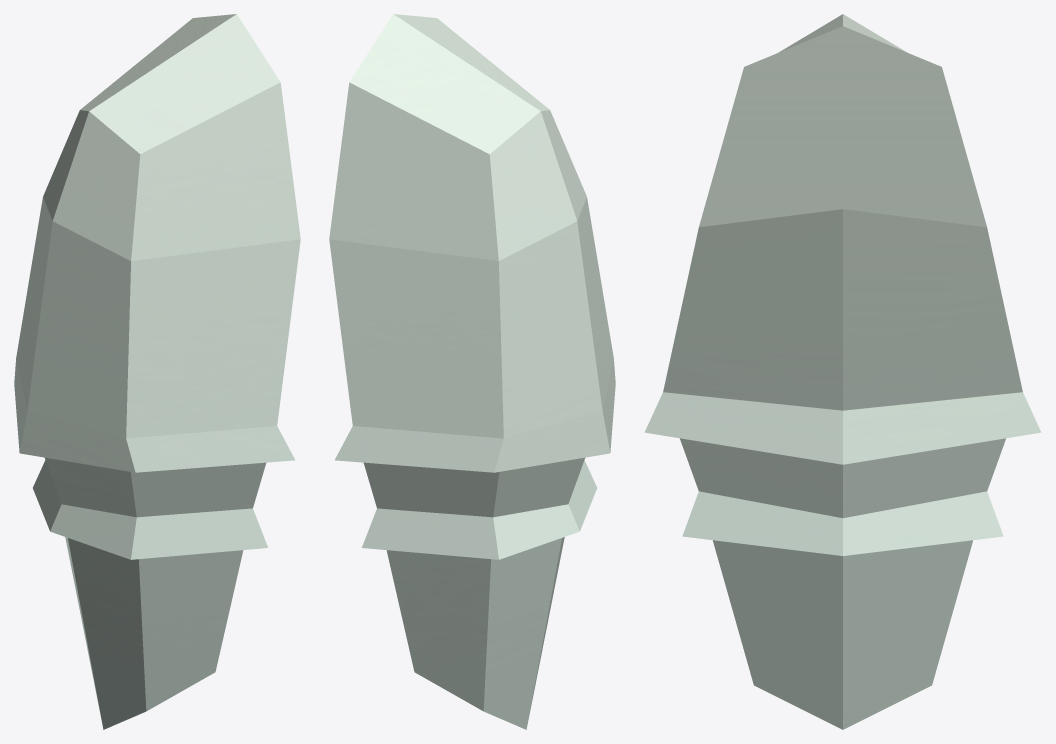
Rendered from SM_Yak_Tail.fbx.
3 renders of one model, left to right at view 1: azimuth 30°, elevation 25°; view 2: azimuth 150°, elevation 25°; view 3: azimuth 270°, elevation 25°, orthographic. The views are drawn at different scales.
Parts seen in each view (by area): view 1: SM_Yak_Tail; view 2: SM_Yak_Tail; view 3: SM_Yak_Tail.
Part boxes in pixels (x1,y1,x2,y2): SM_Yak_Tail: (14, 14, 300, 729); SM_Yak_Tail: (329, 14, 615, 729); SM_Yak_Tail: (644, 14, 1041, 729).
Size of the model in its own units: 8.46 by 24.8 by 11.58.
